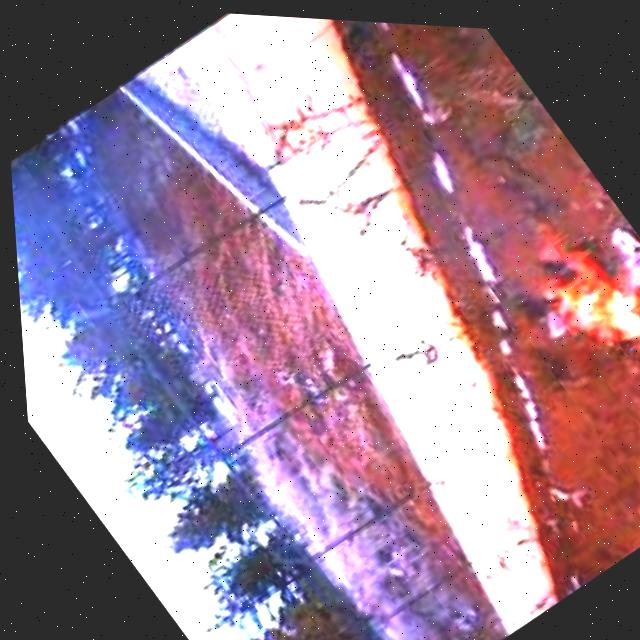Fire: (494, 178, 640, 408)
